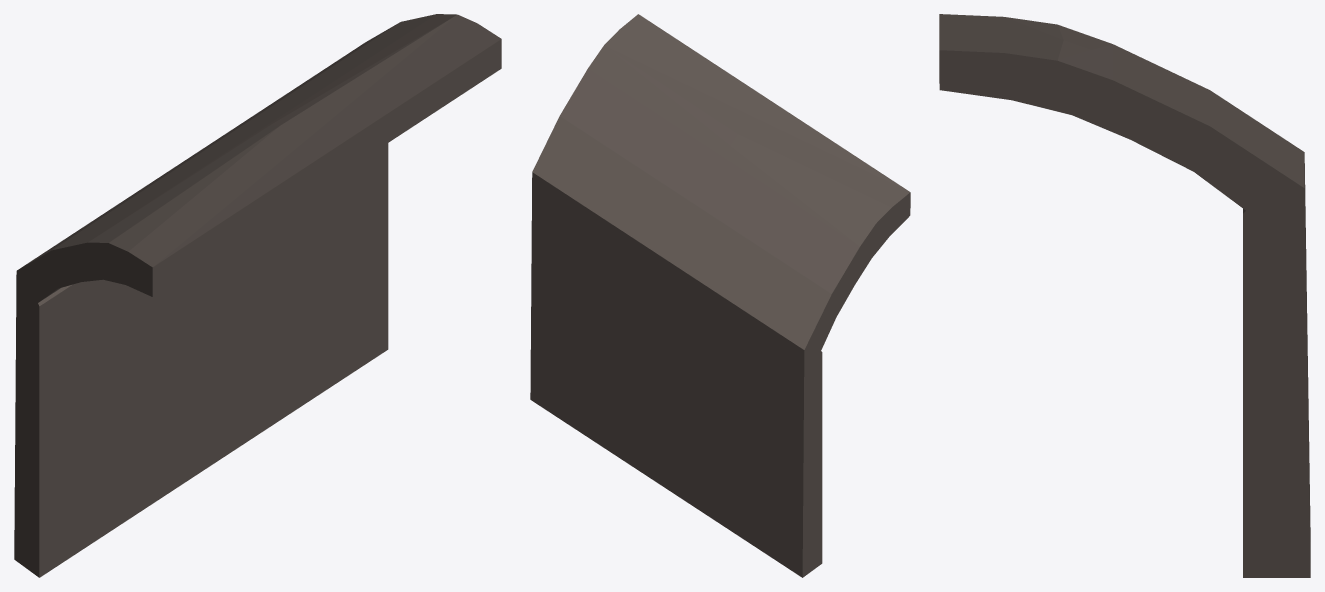
The model's file is MCastle_TunnelWalls_01.FBX.
The picture shows the model from 3 angles, left to right: view 1: azimuth 30°, elevation 25°; view 2: azimuth 150°, elevation 25°; view 3: azimuth 270°, elevation 25°; orthographic projection. The views are drawn at different scales.
Visible parts, largest first — view 1: MCastle_TunnelWalls_01_LOD0; view 2: MCastle_TunnelWalls_01_LOD0; view 3: MCastle_TunnelWalls_01_LOD0.
Part boxes in pixels (x1,y1,x2,y2): MCastle_TunnelWalls_01_LOD0: (14,14,501,577); MCastle_TunnelWalls_01_LOD0: (530,14,910,577); MCastle_TunnelWalls_01_LOD0: (939,14,1310,577).
Size of the model in its own units: 4 by 5.88 by 2.75.
